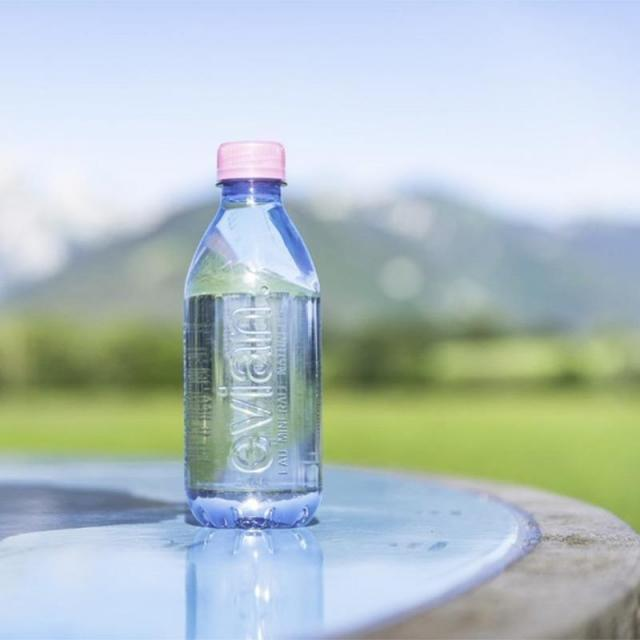bottle-plastic: (178, 137, 327, 533)
